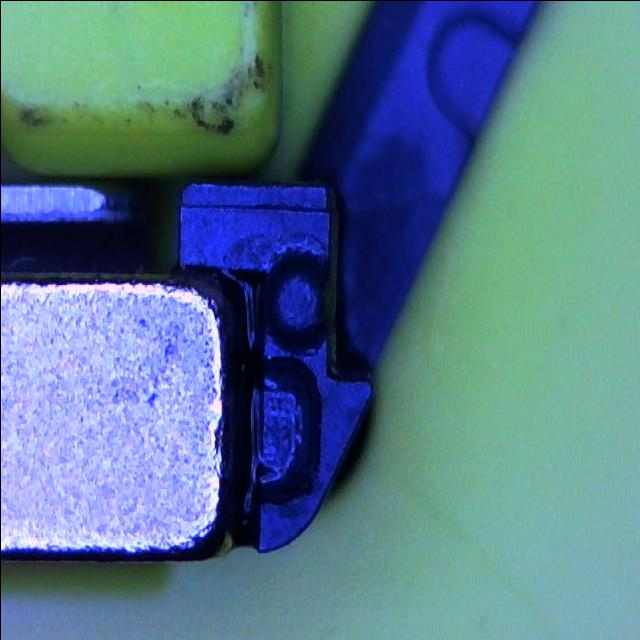lacking: (243, 356, 320, 508)
